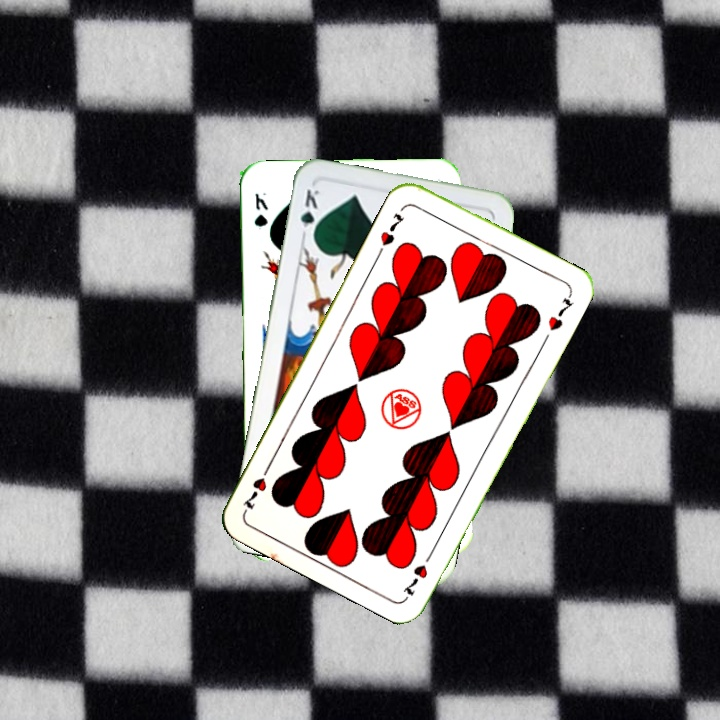GK: (296, 185, 322, 243), (250, 188, 270, 230)
H7: (399, 546, 437, 600), (376, 209, 408, 249)
